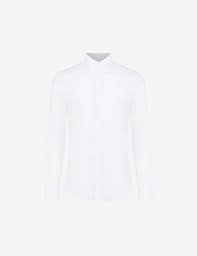C_shirt: (40, 53, 158, 204)
